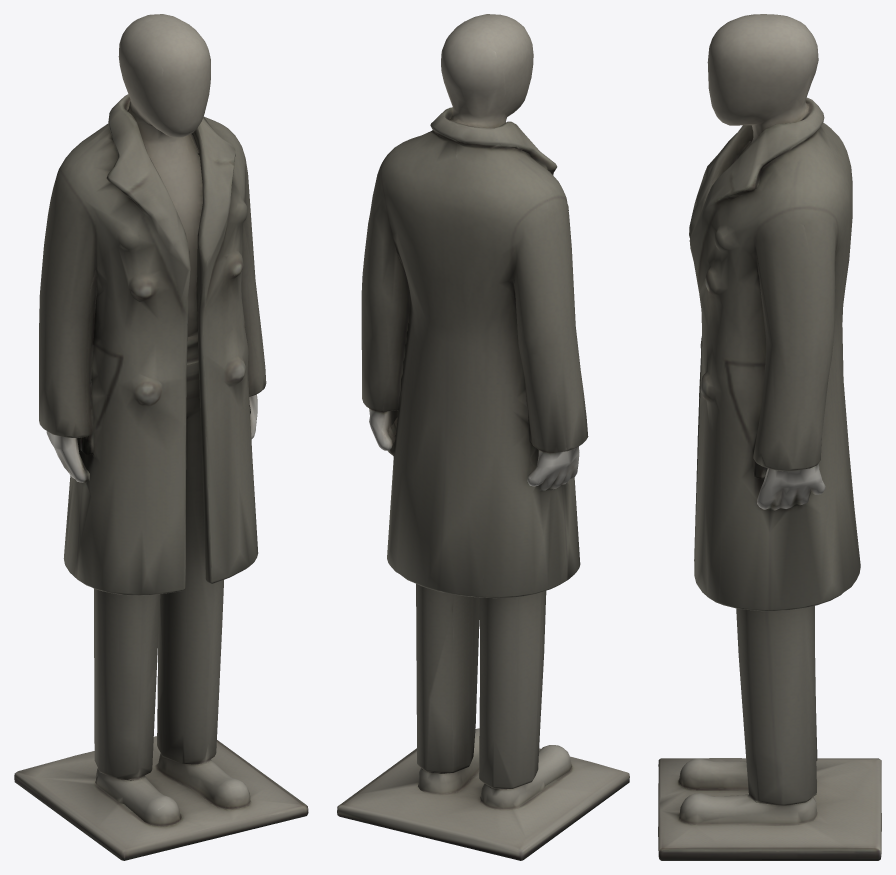
The model's file is manekin.obj.
3 renders of one model, left to right at view 1: azimuth 30°, elevation 25°; view 2: azimuth 150°, elevation 25°; view 3: azimuth 270°, elevation 25°, orthographic. The views are drawn at different scales.
Parts seen in each view (by area): view 1: Bodygeom1; view 2: Bodygeom1; view 3: Bodygeom1.
Part boxes in pixels (x1=…): Bodygeom1: x1=14, y1=14, x2=308, y2=860; Bodygeom1: x1=337, y1=14, x2=629, y2=860; Bodygeom1: x1=658, y1=14, x2=881, y2=860.
Bounding box in the file's own units: 2.61 × 9 × 2.29.
Materials: 1 (1 with a texture image).
